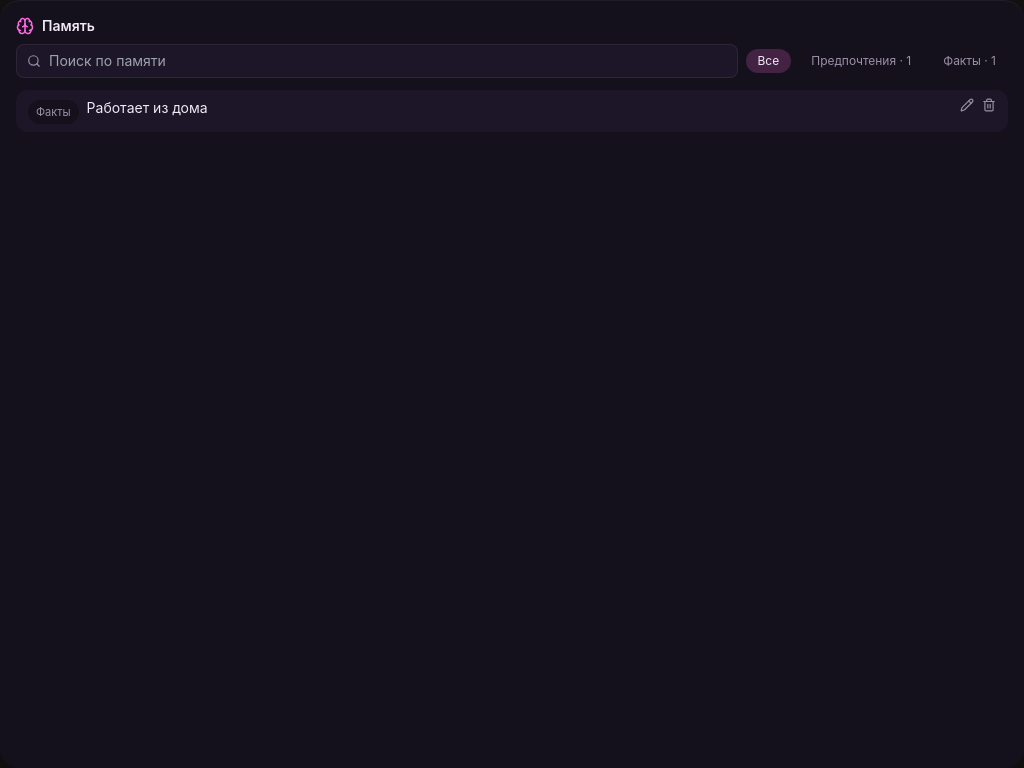
Scenario: Память: список, категория, поиск, правка и удаление с подтверждением
Earlier steps of the test are not shown.
Type "дома" into the field labelled "Поиск по памяти" at point(388, 61), box [49,51,726,71]
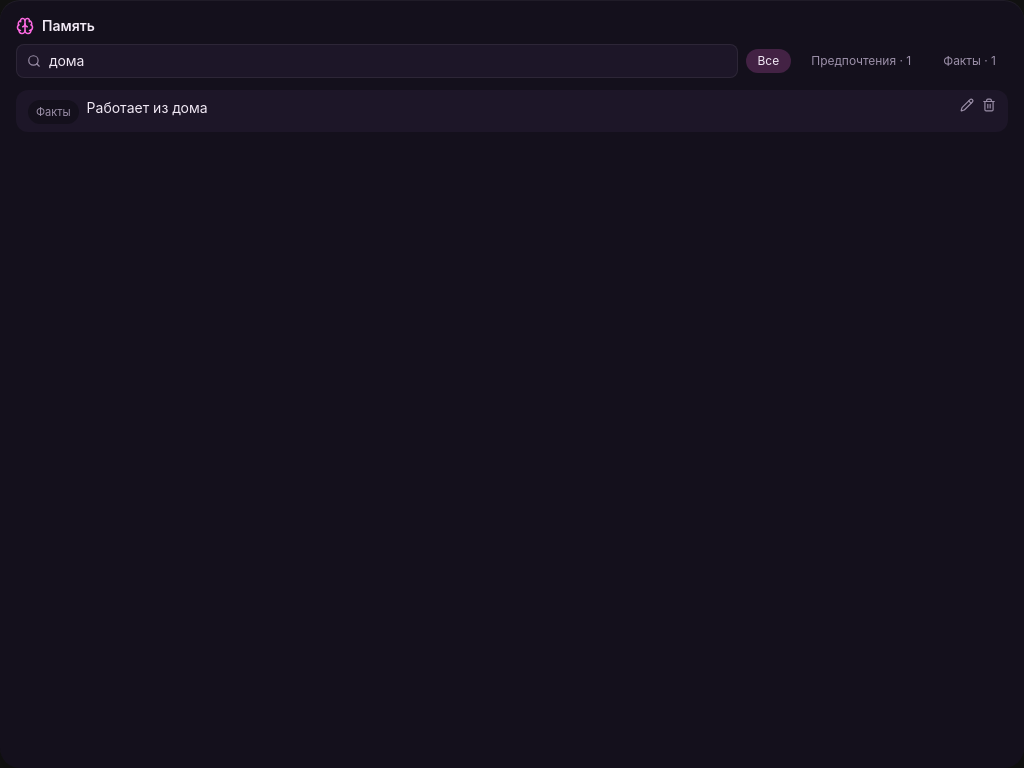
Expected: the text "Любит лоу-фай" is not shown
Click the button named "Изменить: Работает из дома" at point(967, 105), box [960,98,974,112]
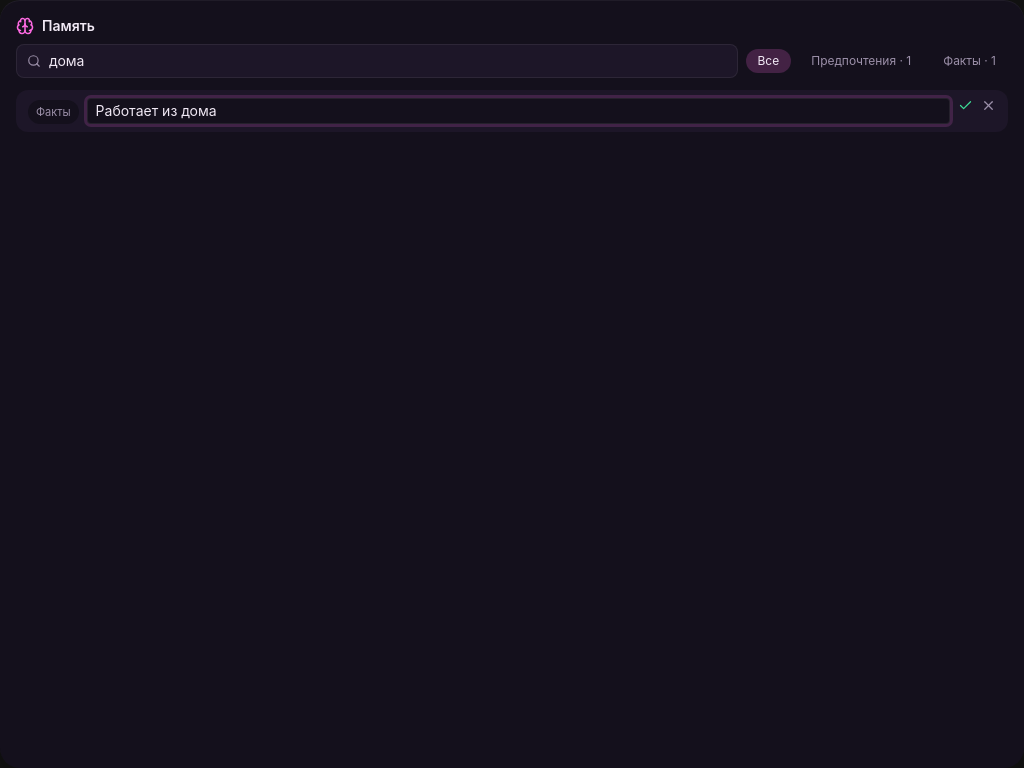
Replace the text in the field named "Текст записи" with "Работает из офиса" at point(518, 111), box [87,98,950,124]
Press Enter in the field named "Текст записи", box [87,98,950,124]
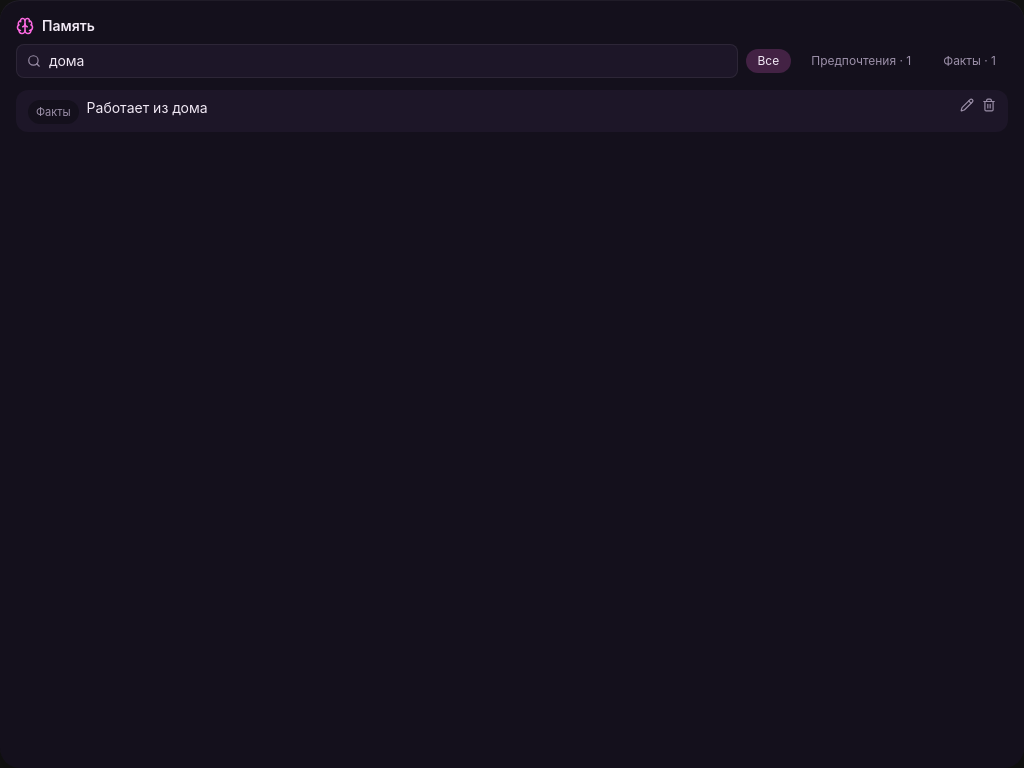
Clear the field named "Поиск по памяти" at point(388, 61), box [49,51,726,71]
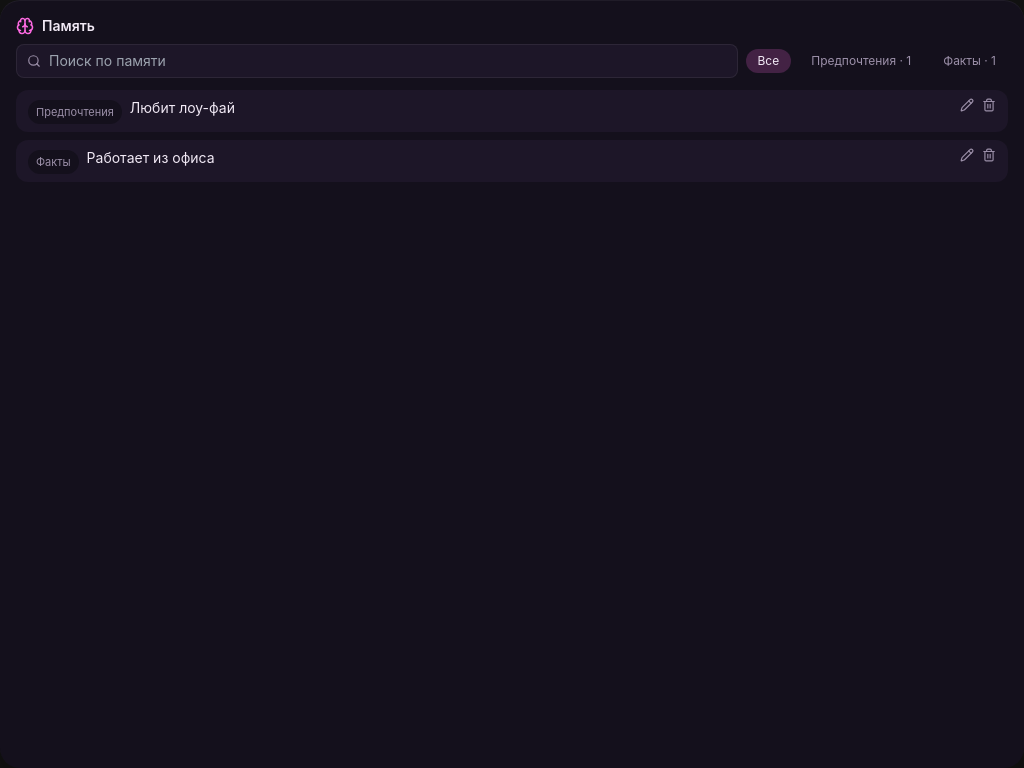
Now the text "Работает из офиса" is shown, box [87,149,214,166]
Click the button named "Удалить: Работает из офиса" at point(989, 155), box [982,148,996,162]
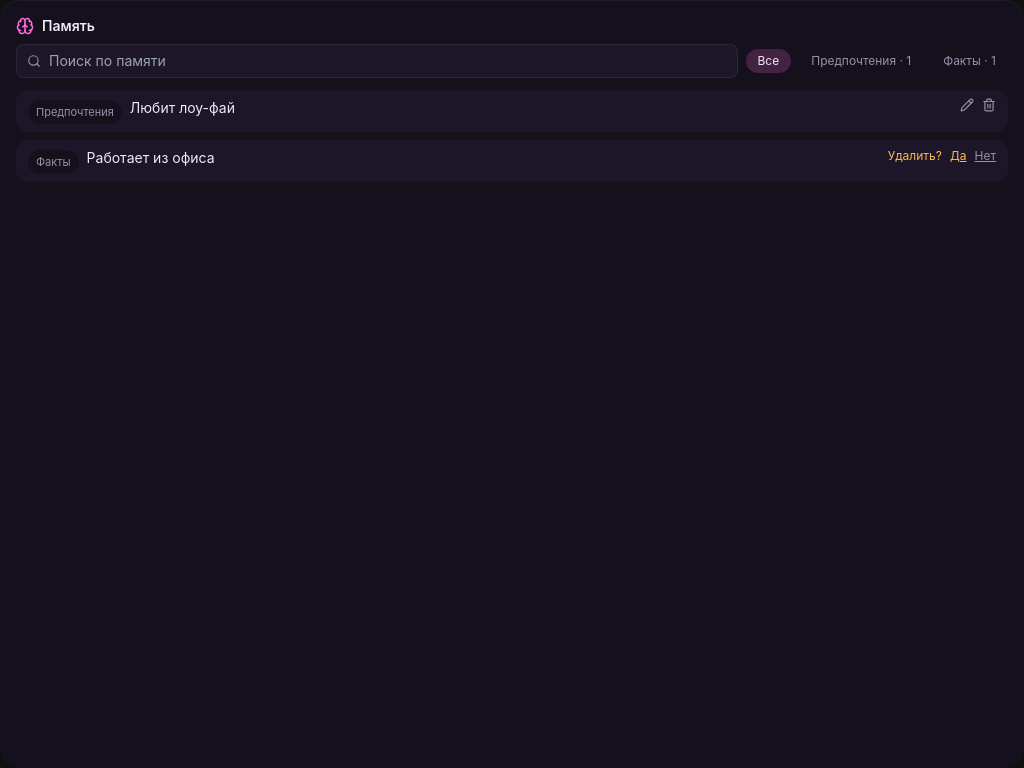
Click the button "Да" at point(958, 156), box [950,148,966,164]
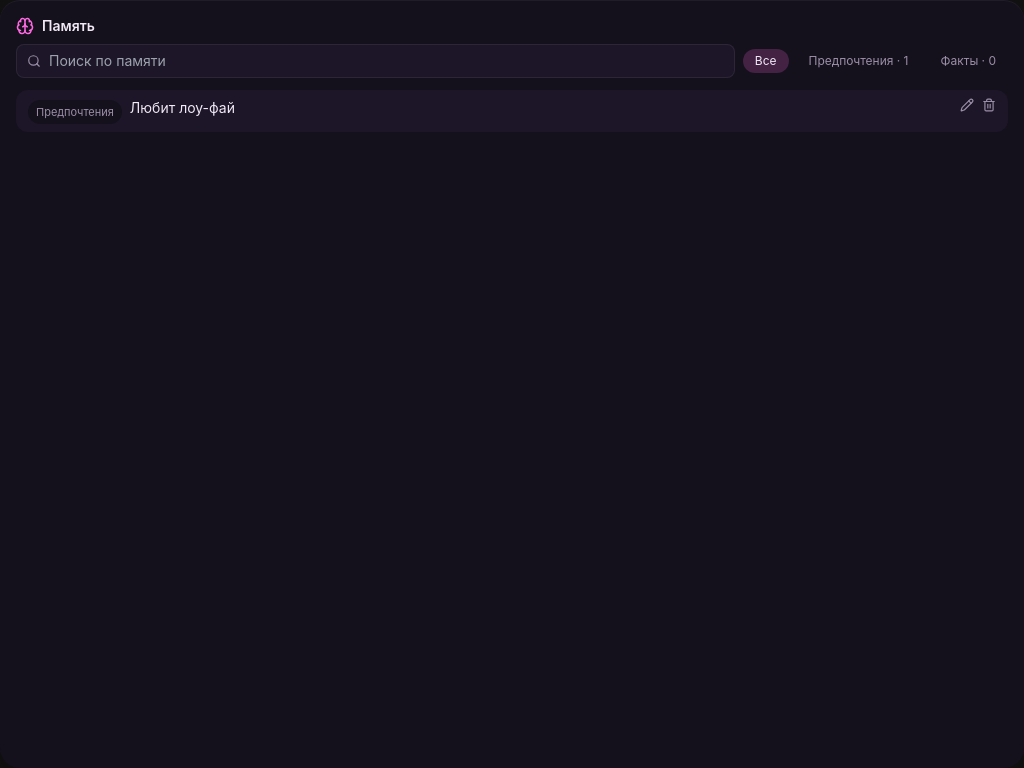
Now the text "Работает из офиса" is gone
